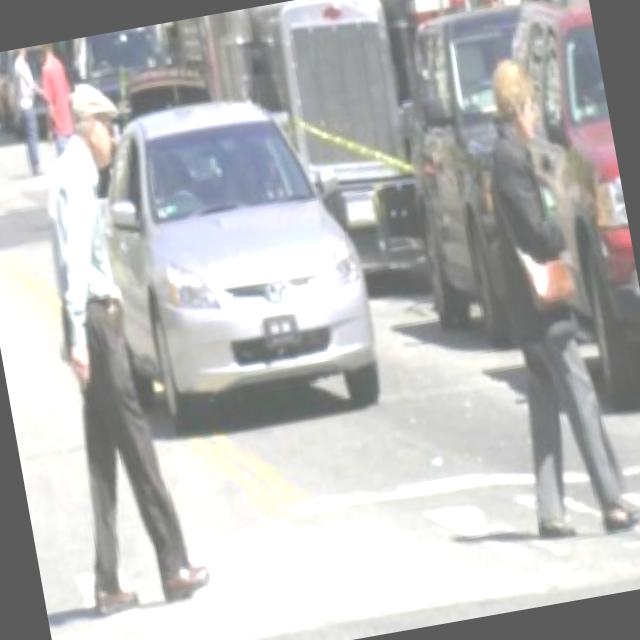Person: (0, 69, 215, 624), (442, 50, 640, 547), (0, 45, 59, 178), (30, 41, 84, 156)
